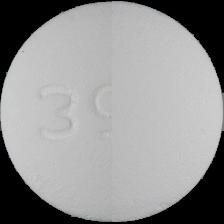50090-0771: (0, 0, 224, 224)
